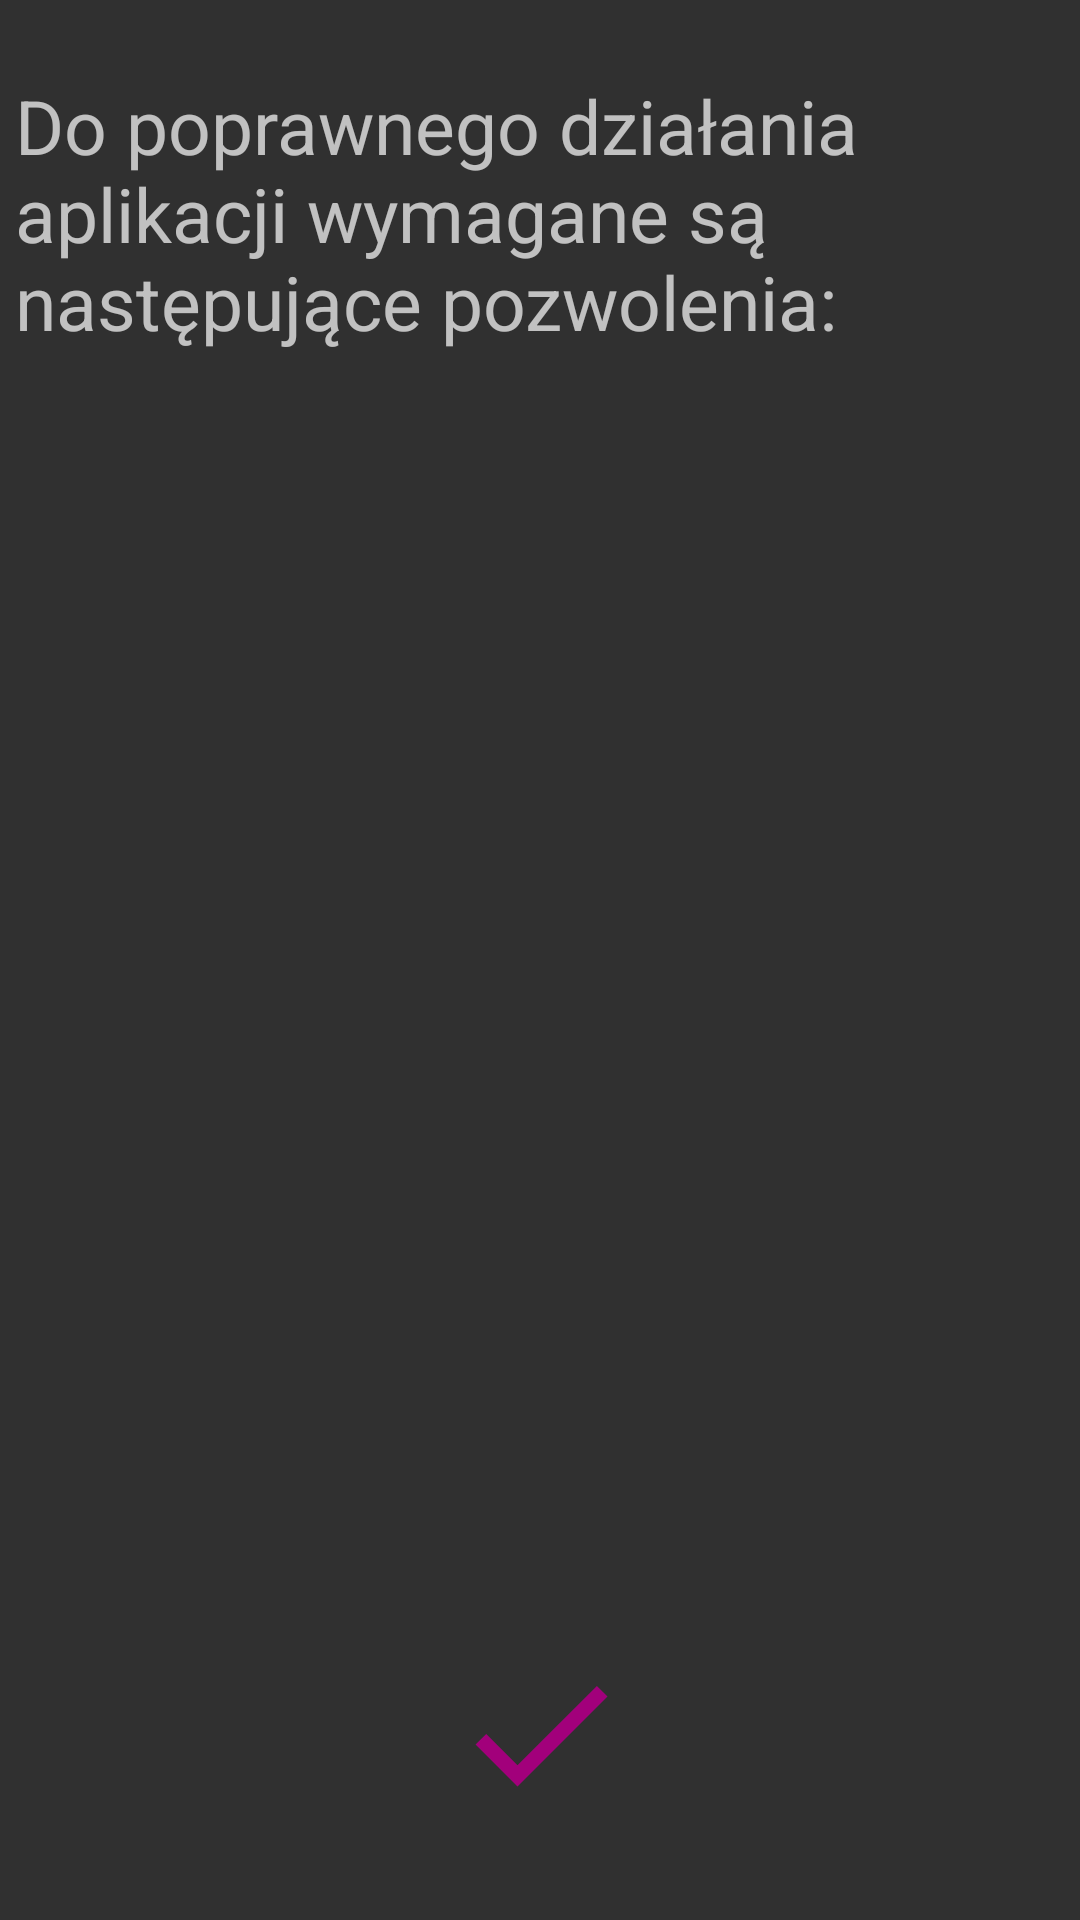

Named icons in this screenshot (1080×1920) and their bounding boxes, (x1, y1, x2, y2):
check: (476, 1686, 608, 1787)
